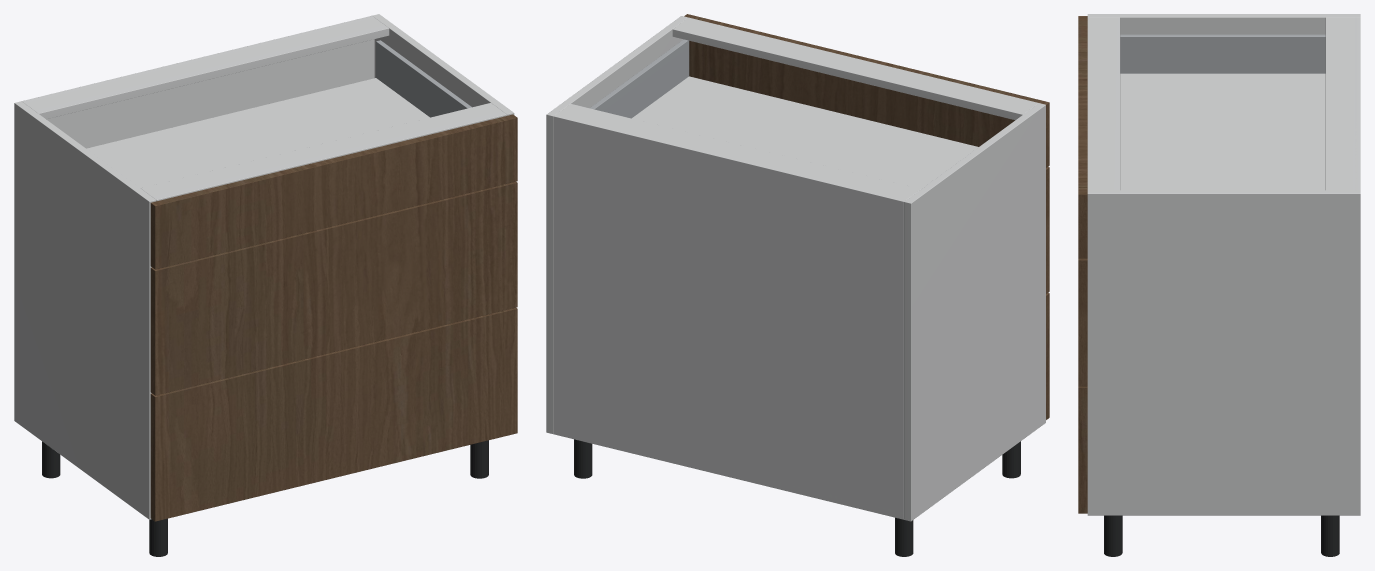
Rendered from oppein-pb-mso-3db36.glb.
3 views of the same model, side by side, from view 1: azimuth 30°, elevation 25°; view 2: azimuth 150°, elevation 25°; view 3: azimuth 270°, elevation 25° (orthographic).
Parts seen in each view (by area): view 1: Drawer front, Drawer front.001, Cabinet side, Drawer front.002, Drawer floor.002, Cabinet back, Top support rail, Top support rail.001, Drawer side.005, Cabinet side.001, Adjustable foot.001, Adjustable foot.003; view 2: Cabinet back, Cabinet side, Drawer floor.002, Drawer front.002, Top support rail.001, Cabinet side.001, Top support rail, Drawer side.005, Adjustable foot, Adjustable foot.002; view 3: Cabinet side.001, Drawer floor.002, Drawer side.004, Top support rail.001, Top support rail, Cabinet side, Drawer front.002, Drawer front.001, Drawer front, Cabinet back, Adjustable foot.003, Adjustable foot.002.
Boxes of the visible parts, bbox=[...] form: Drawer front: bbox=[150, 307, 517, 521]; Drawer front.001: bbox=[150, 181, 517, 395]; Cabinet side: bbox=[14, 101, 156, 519]; Drawer front.002: bbox=[150, 114, 517, 269]; Drawer floor.002: bbox=[86, 78, 429, 188]; Cabinet back: bbox=[21, 15, 374, 148]; Top support rail: bbox=[24, 17, 389, 119]; Top support rail.001: bbox=[141, 103, 506, 201]; Drawer side.005: bbox=[376, 40, 471, 117]; Cabinet side.001: bbox=[372, 14, 514, 115]; Adjustable foot.001: bbox=[149, 518, 167, 556]; Adjustable foot.003: bbox=[470, 440, 488, 478]; Cabinet back: bbox=[553, 114, 905, 519]; Cabinet side: bbox=[904, 103, 1045, 521]; Drawer floor.002: bbox=[632, 76, 978, 188]; Drawer front.002: bbox=[684, 14, 1049, 167]; Top support rail.001: bbox=[672, 17, 1038, 120]; Cabinet side.001: bbox=[546, 16, 688, 434]; Top support rail: bbox=[556, 104, 920, 199]; Drawer side.005: bbox=[590, 39, 689, 118]; Adjustable foot: bbox=[895, 517, 913, 556]; Adjustable foot.002: bbox=[574, 439, 592, 478]; Cabinet side.001: bbox=[1087, 190, 1360, 515]; Drawer floor.002: bbox=[1120, 73, 1325, 190]; Drawer side.004: bbox=[1120, 34, 1325, 73]; Top support rail.001: bbox=[1087, 17, 1120, 190]; Top support rail: bbox=[1325, 17, 1357, 190]; Cabinet side: bbox=[1087, 14, 1360, 34]; Drawer front.002: bbox=[1078, 16, 1087, 258]; Drawer front.001: bbox=[1078, 258, 1087, 386]; Drawer front: bbox=[1078, 386, 1087, 513]; Cabinet back: bbox=[1355, 17, 1360, 190]; Adjustable foot.003: bbox=[1104, 515, 1122, 556]; Adjustable foot.002: bbox=[1321, 515, 1339, 556].
Bounding box in the file's own units: 0.9144 × 0.8763 × 0.6064.
Materials: 4 (1 with a texture image).
